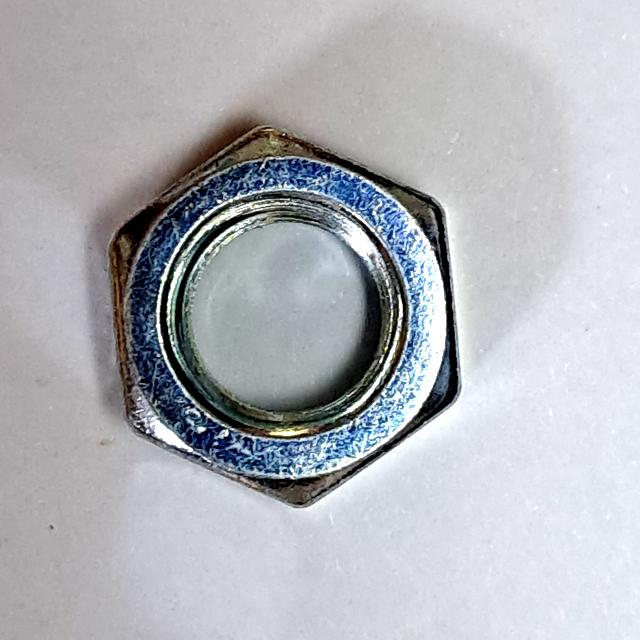Excellent: (92, 113, 476, 528)
